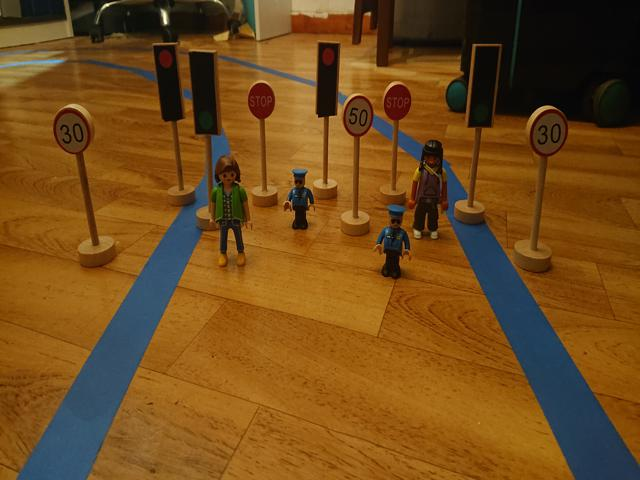30 speed sign: (529, 109, 569, 159), (53, 108, 93, 155)
50 speed sign: (342, 95, 373, 137)
green light: (192, 55, 214, 133), (474, 49, 494, 125)
person: (209, 154, 254, 269), (408, 138, 448, 243), (374, 203, 411, 282), (281, 164, 317, 233)
red light: (158, 42, 176, 121), (317, 42, 336, 110)
stop sign: (381, 85, 412, 120), (246, 83, 275, 120)
